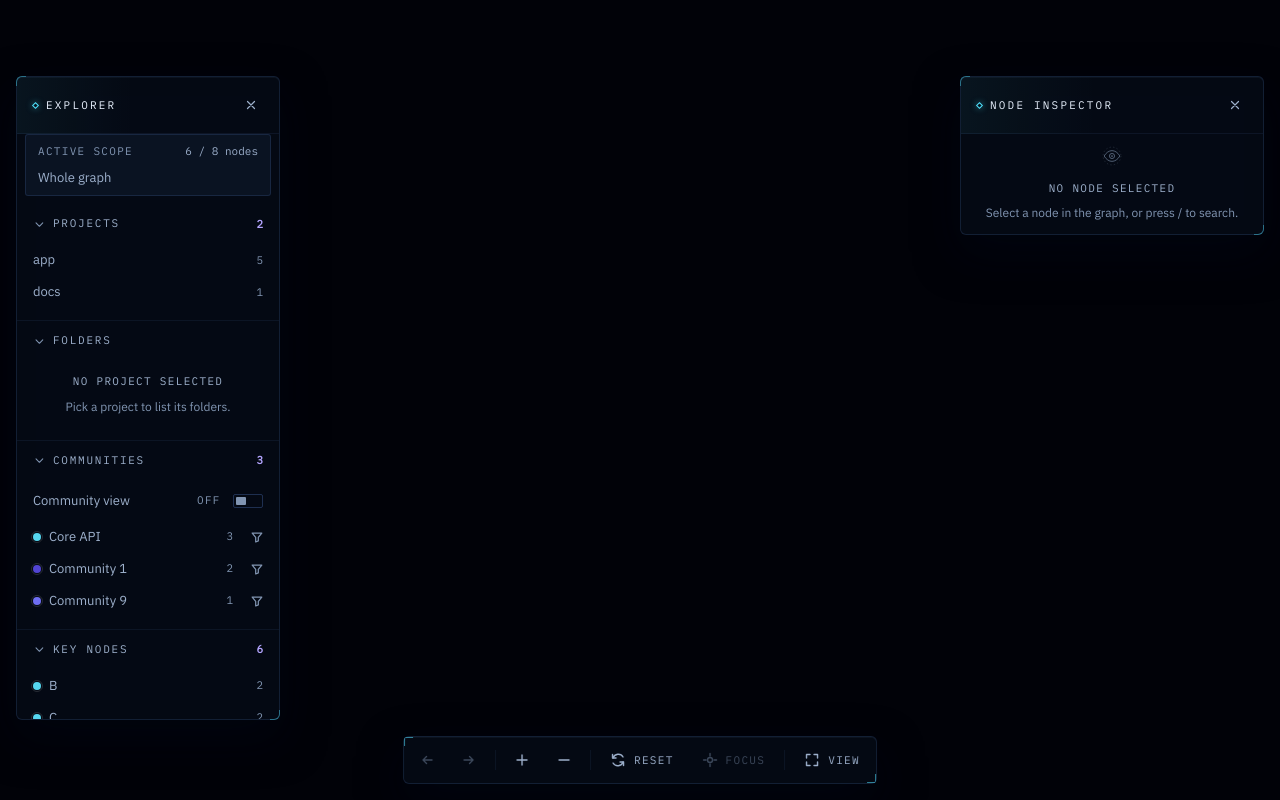
communities in the interface › a community row selects, frames and opens the community without hiding anything
Click the button "Core API 3" at (133, 536), box 25,520 -> 241,552
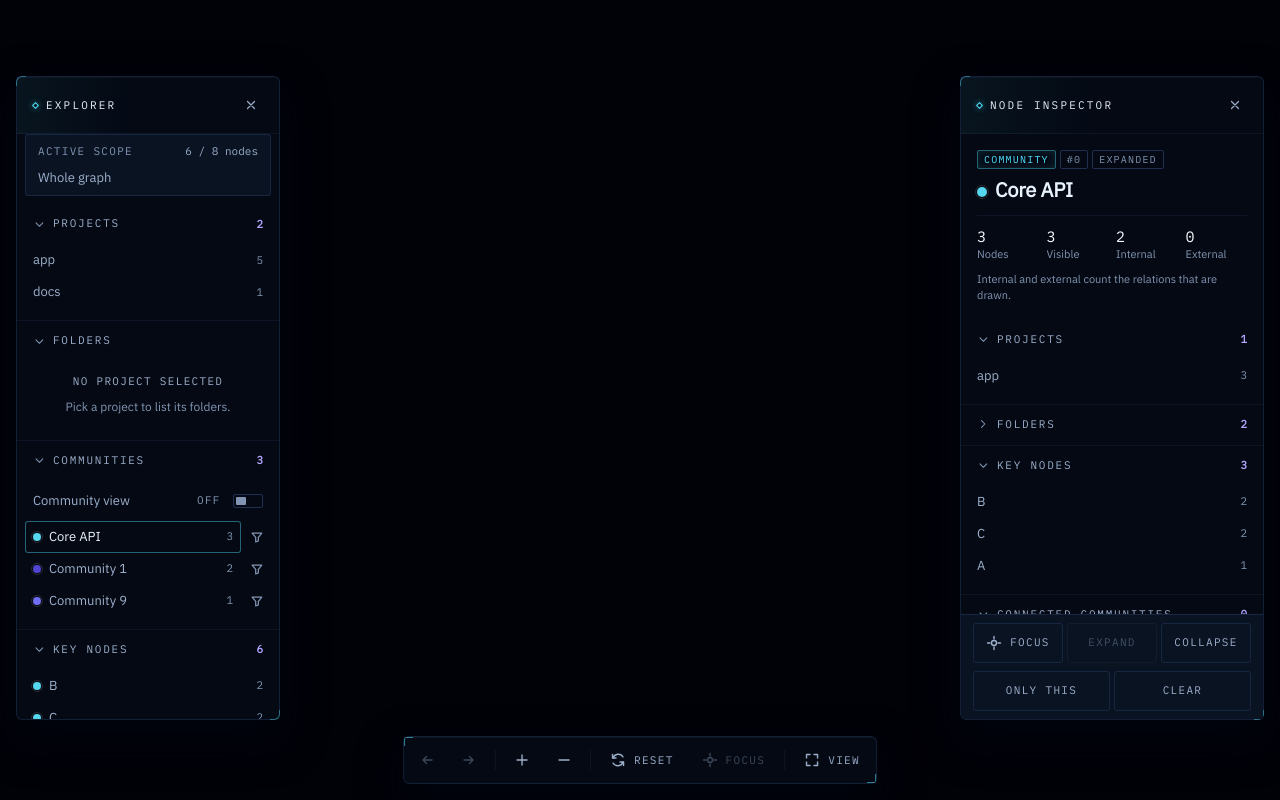
Now the text "Core API" is shown, box 977,176 -> 1073,203
